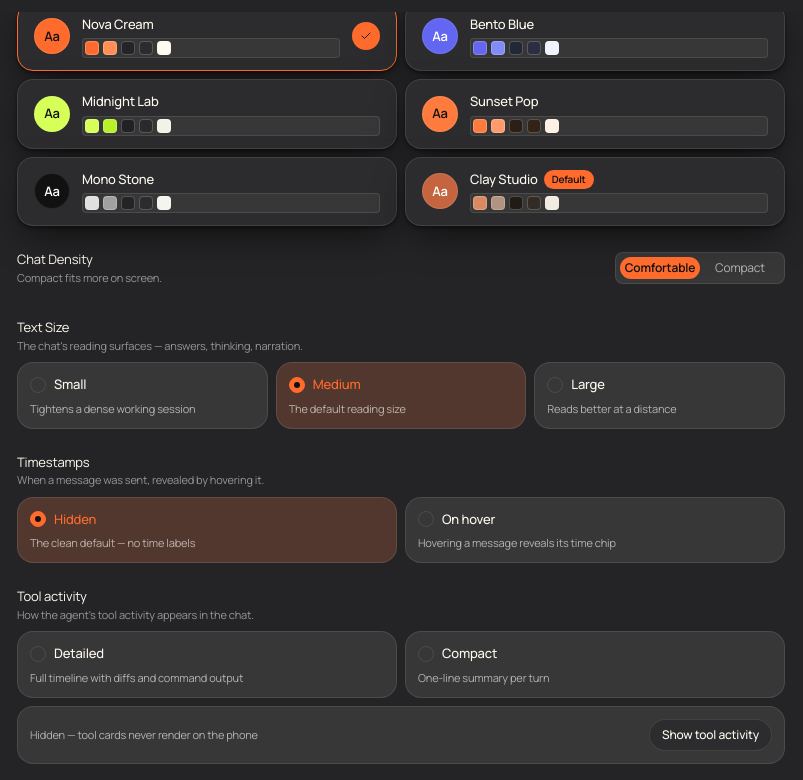
Test case: Appearance tab simplification (R62-2a) › R128-W6: a persisted 'hidden' renders the legacy row — neither chip selected, one tap returns to detailed
(page scrolled)
Expected: the element with test id "tool-activity-legacy-hidden" is shown, [17,706,785,764]
Expected: the text "Hidden — tool cards never render on the phone" is shown, [30,727,258,742]
# The one-tap recovery: the SAME write path a chip click always rides.
Click the button "Show tool activity" at (710, 735), box [649,719,772,751]
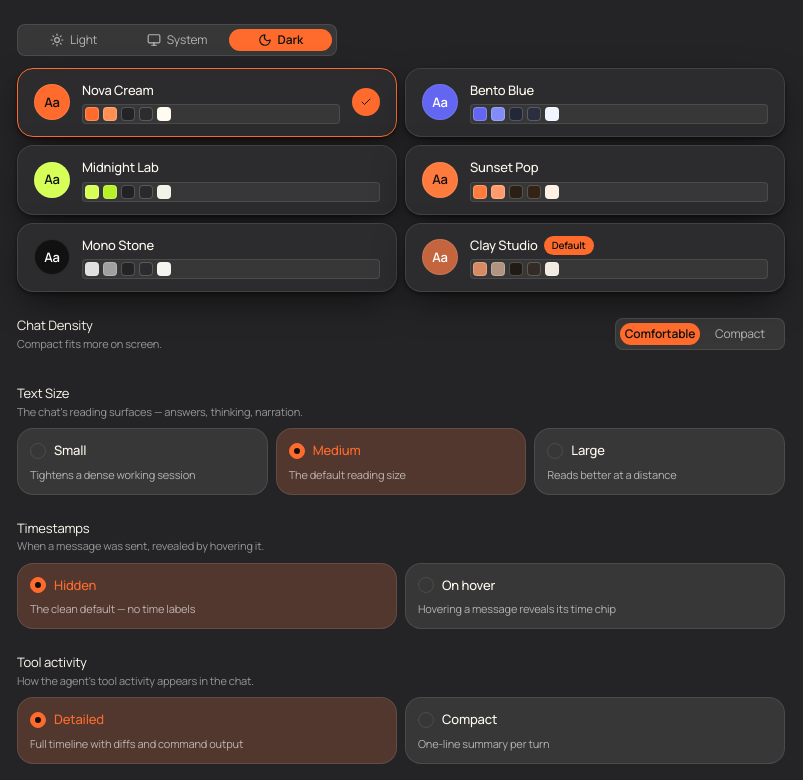
Expected: the element with test id "tool-activity-legacy-hidden" is gone
Expected: the text "Hidden — tool cards never render on the phone" is gone
